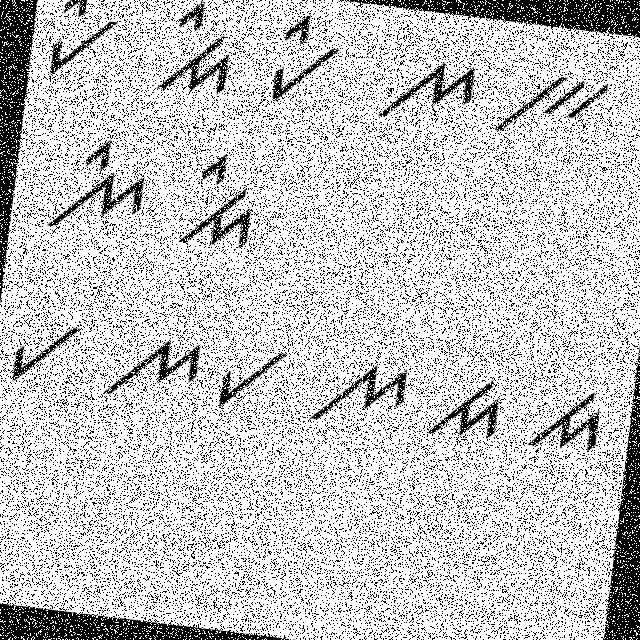da: (517, 376, 607, 465), (423, 363, 509, 449)
di: (172, 147, 268, 266), (148, 0, 245, 102)
na: (370, 42, 486, 137), (96, 322, 208, 416), (303, 350, 417, 440)
ni: (34, 130, 156, 245)
pa: (0, 303, 87, 393), (211, 334, 293, 417)
pi: (256, 7, 350, 116), (39, 0, 129, 86)
